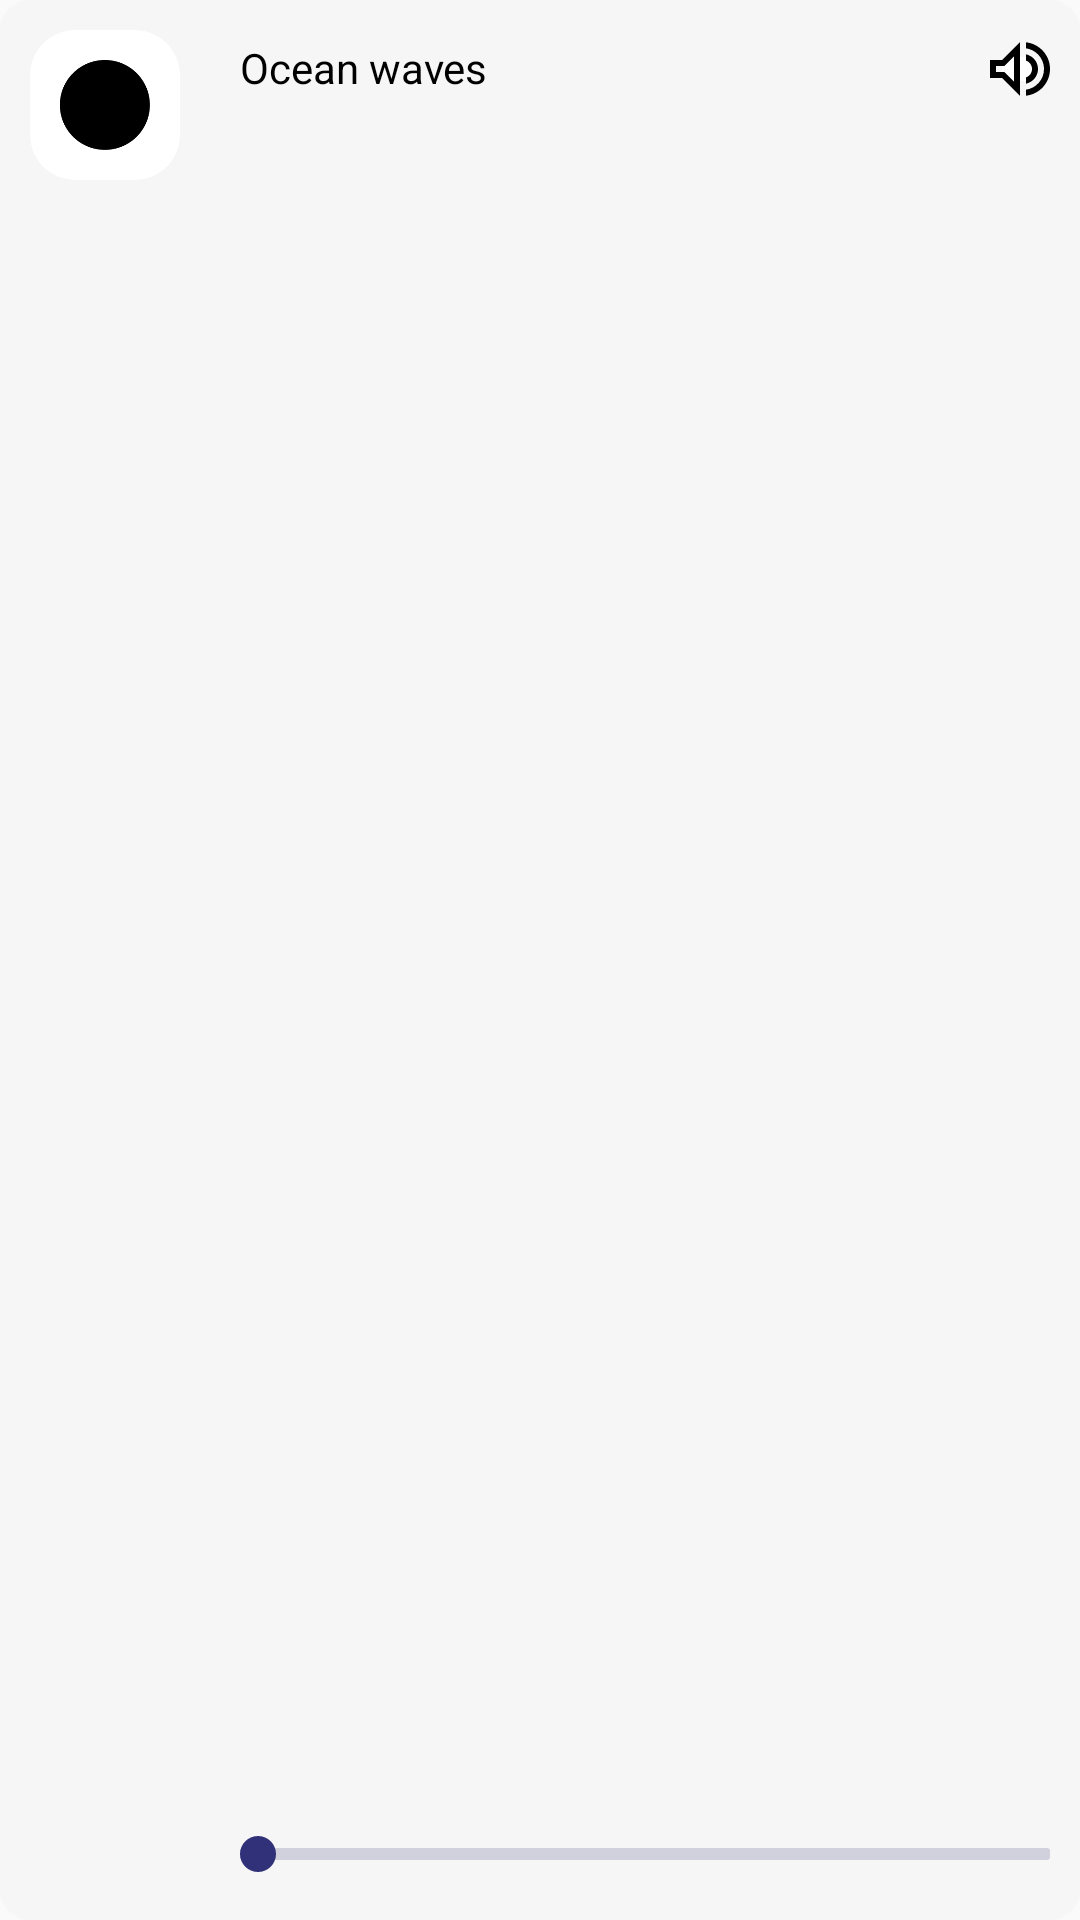

Icon click points for this 1080×1920 phone screenshot, format point (x, y):
speaker: point (1020, 69)
